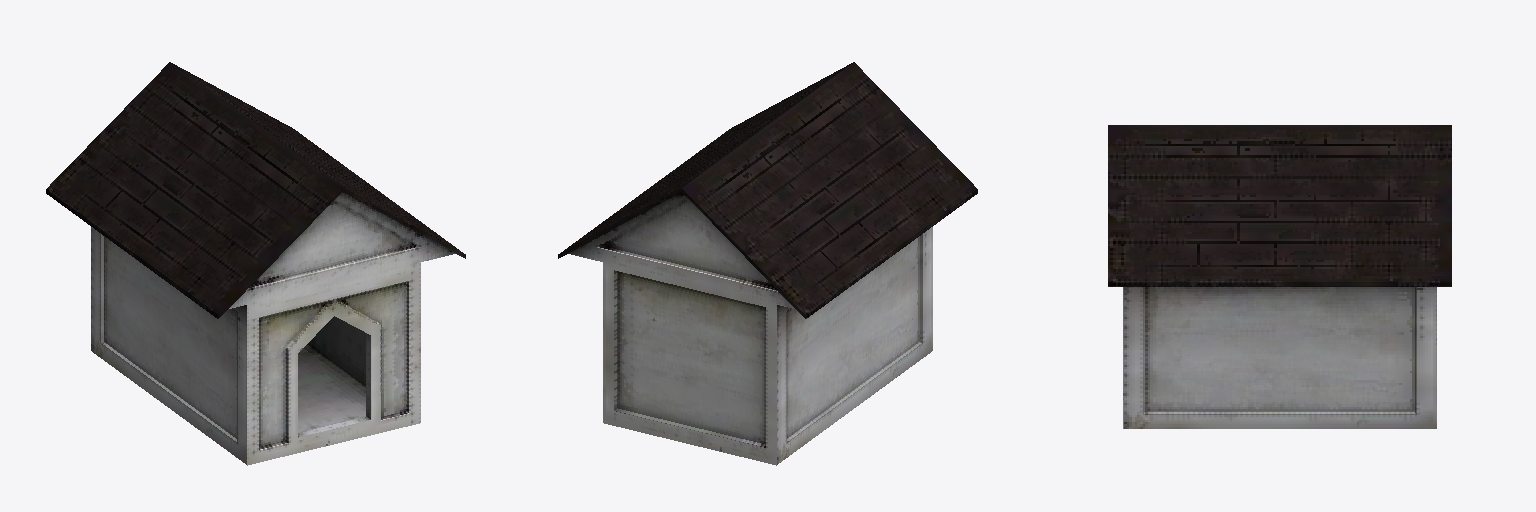
The picture shows the model from 3 angles: view 1: azimuth 30°, elevation 25°; view 2: azimuth 150°, elevation 25°; view 3: azimuth 270°, elevation 25°; orthographic projection.
Bounding box in the file's own units: 2.3 × 2.32 × 2.77.
Materials: 1 (1 with a texture image).